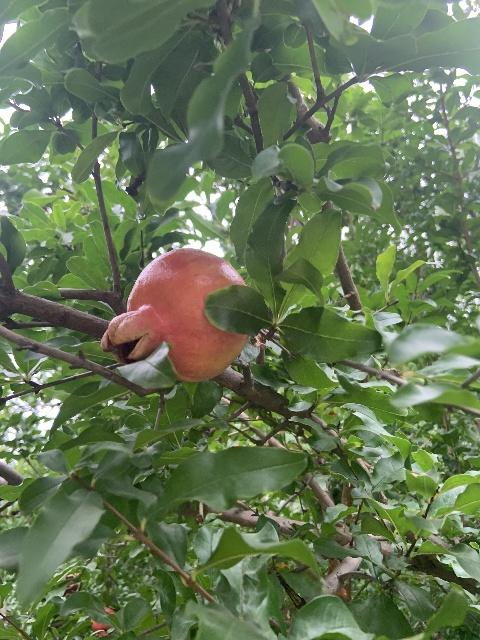ripe: (101, 248, 248, 381), (91, 606, 115, 636)
